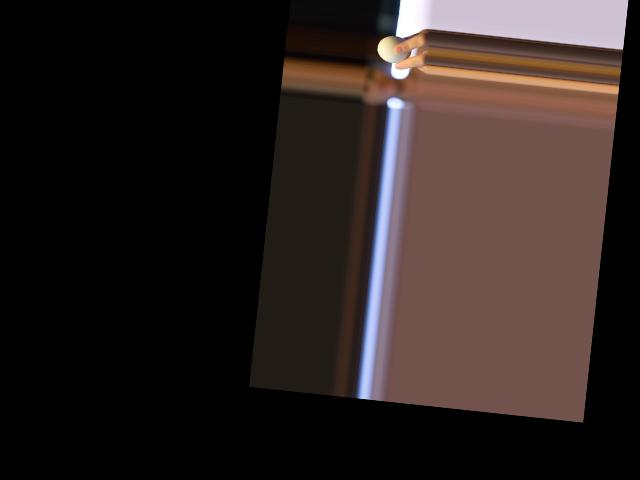egg: (376, 34, 413, 65)
